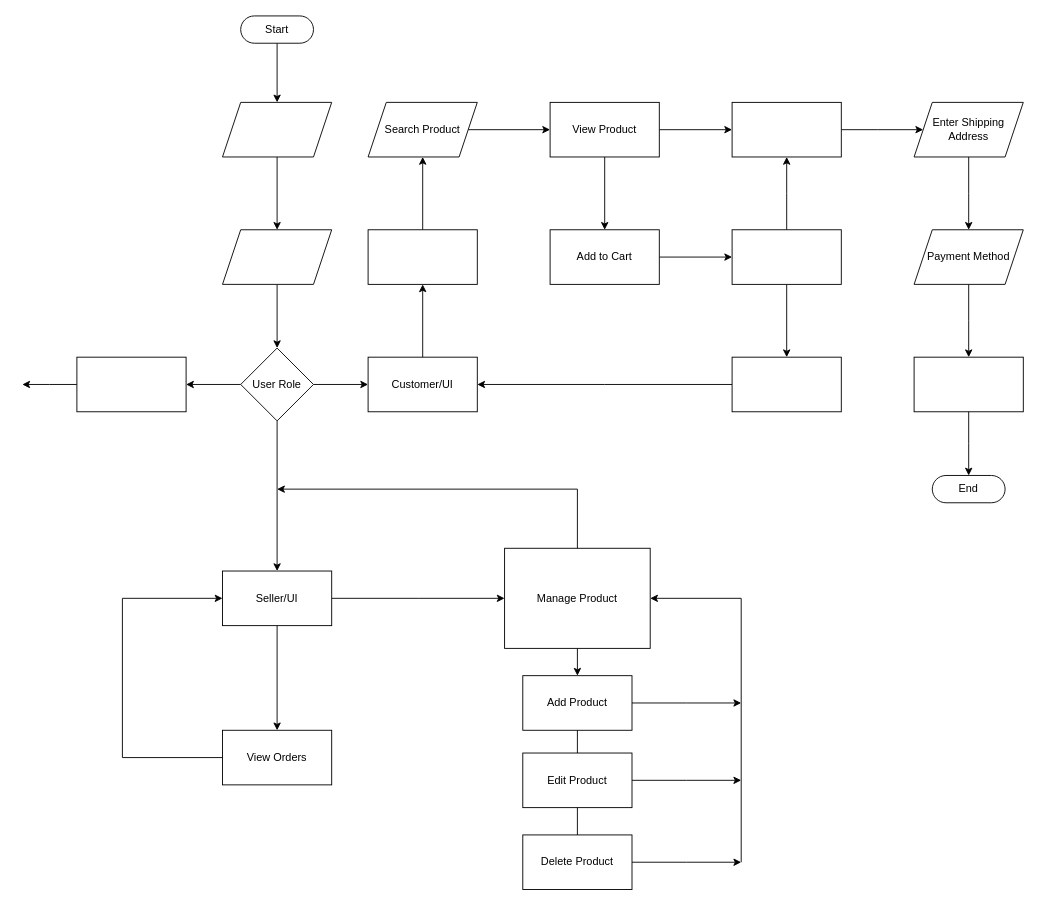
This 1039x905 diagram has some shape labels left out. The shapes that lost their labels are listed below. From the top down, each one's centre as x and y in pixels, then its label:
[277,129]: Registration
[786,129]: Check Out
[277,256]: Login
[422,256]: Browse
[786,256]: View Cart
[131,384]: Admin/UI
[786,384]: Continue Shopping
[968,384]: Place Order
